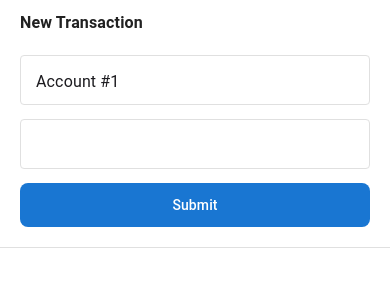
Test case: TransactionForm › shows validation error when amount is empty
Click the button with test id "submit-button": click(195, 205) [20, 185, 370, 225]
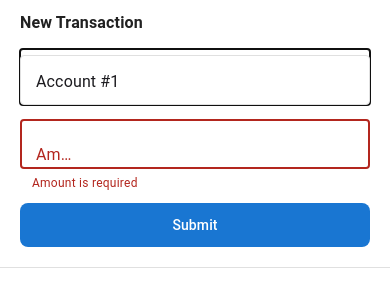
Expected: the text "Amount is required" is shown, [32, 176, 138, 190]
